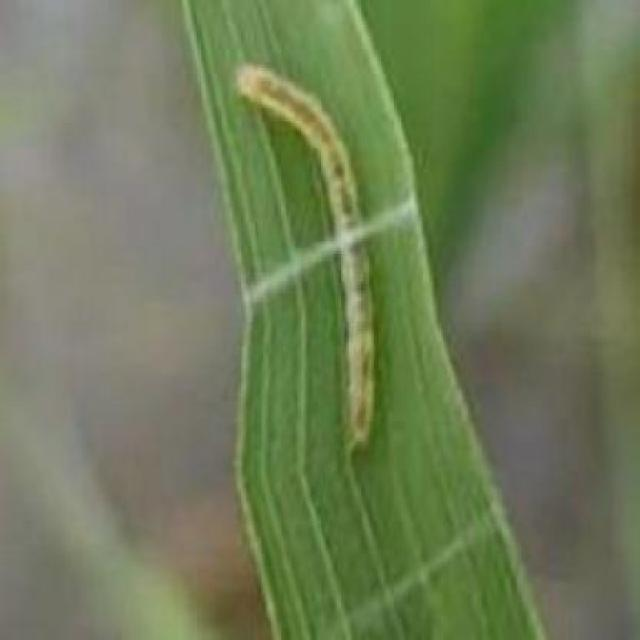leaf-folder: (228, 46, 402, 468)
